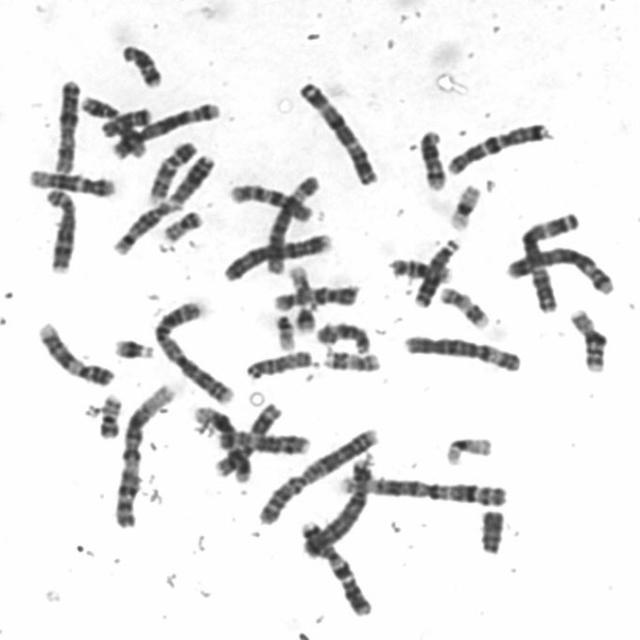A1: (108, 377, 178, 530), (333, 466, 512, 509)
A2: (253, 422, 382, 527), (150, 292, 238, 406)
A3: (293, 74, 382, 185), (516, 205, 583, 314)
B4: (298, 445, 378, 560), (218, 226, 334, 283)
B5: (106, 95, 222, 159), (502, 242, 617, 296)
C10: (224, 176, 317, 223), (268, 278, 363, 312)
C11: (188, 400, 254, 485), (75, 90, 146, 159)
C12: (188, 400, 254, 485), (23, 162, 119, 198)
C6: (262, 167, 322, 276), (400, 328, 526, 374)
C7: (297, 513, 376, 618), (441, 115, 555, 176)
C8: (39, 182, 79, 274), (213, 424, 312, 456)
C9: (33, 315, 117, 388), (142, 135, 198, 204)
D13: (410, 233, 464, 309), (164, 147, 217, 207)
D14: (107, 194, 182, 257), (415, 122, 451, 192)
D15: (241, 342, 317, 381), (312, 314, 374, 356)
E16: (564, 302, 612, 373), (384, 252, 454, 284)
E17: (435, 279, 493, 330), (318, 343, 384, 373)
E18: (116, 37, 166, 89), (95, 101, 153, 139)
F19: (444, 178, 485, 232), (442, 430, 496, 467)
F20: (158, 204, 206, 243), (92, 387, 126, 441)
G21: (109, 330, 158, 361), (289, 299, 320, 335)
G22: (282, 259, 320, 314), (269, 307, 299, 352)
X: (49, 72, 84, 174), (213, 424, 312, 456)
Y: (474, 503, 508, 555)
